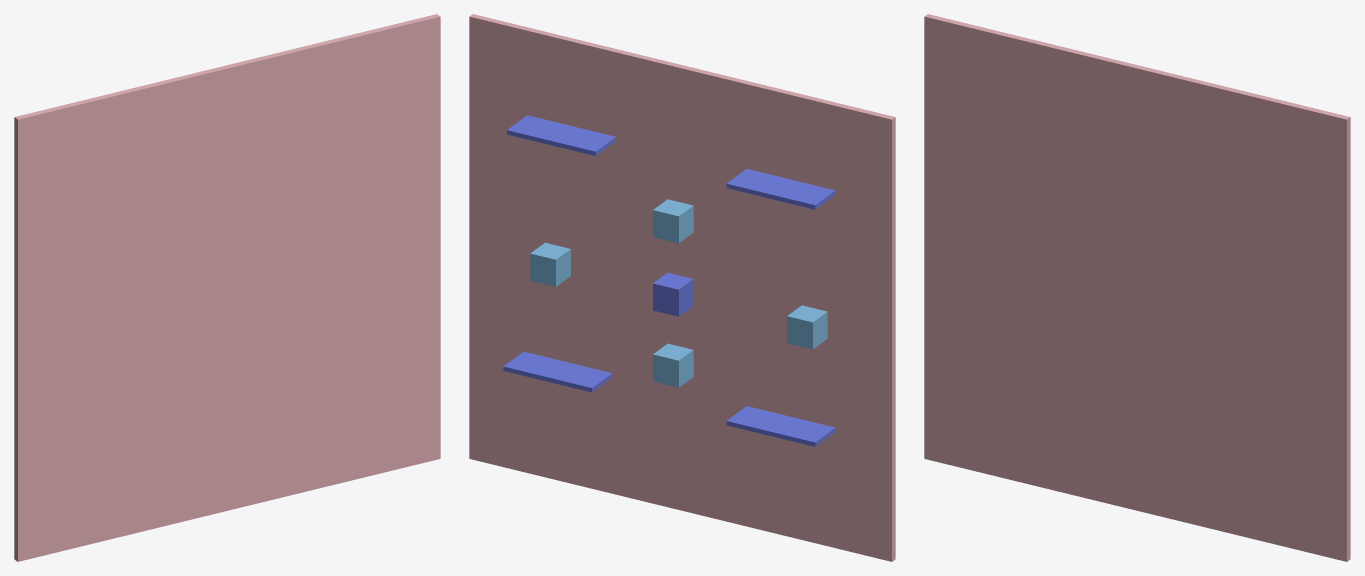
The model's file is arena.dae.
3 views of the same model, side by side, from view 1: azimuth 30°, elevation 25°; view 2: azimuth 150°, elevation 25°; view 3: azimuth 330°, elevation 25° (orthographic).
Parts seen in each view (by area): view 1: Cube; view 2: Cube; view 3: Cube.
Boxes of the visible parts, box(x1,y1,x2,y2) form: Cube: box(14, 14, 440, 561); Cube: box(469, 14, 895, 561); Cube: box(924, 14, 1350, 561).
Size of the model in its own units: 500 by 49.01 by 500.
